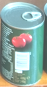tomatoes: (1, 1, 45, 85)
